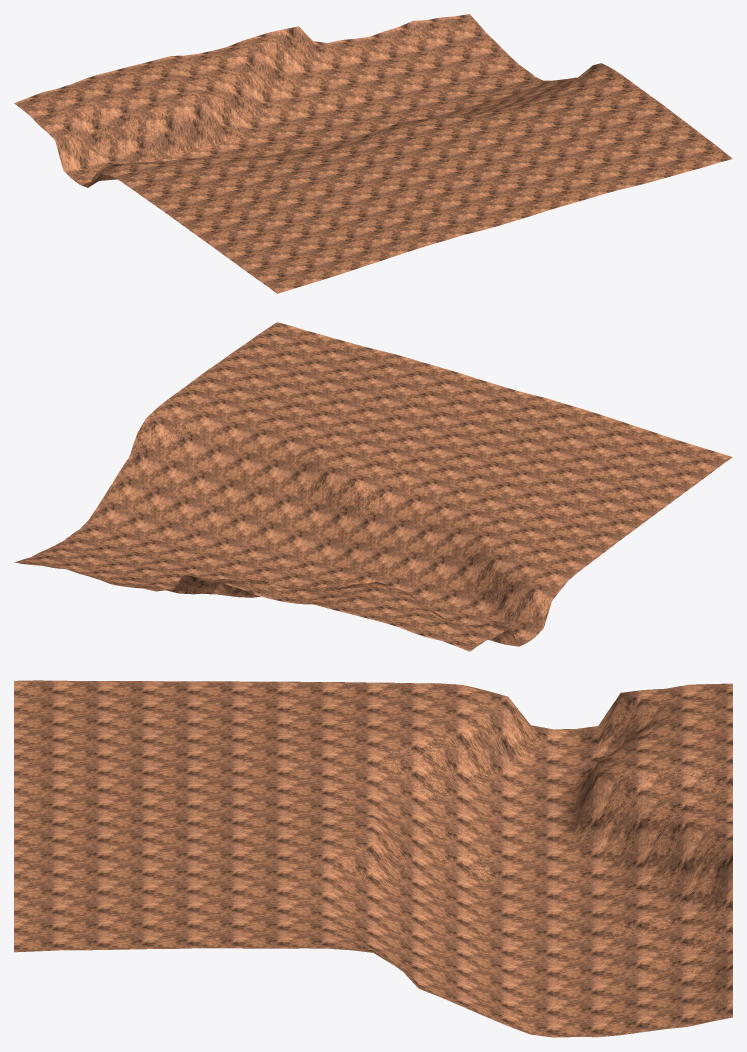
The model's file is terrain_03_10.dae.
3 renders of one model, top to bottom at view 1: azimuth 30°, elevation 25°; view 2: azimuth 150°, elevation 25°; view 3: azimuth 270°, elevation 25°, orthographic. The views are drawn at different scales.
Visible parts, largest first — view 1: terrain_03_10-node; view 2: terrain_03_10-node; view 3: terrain_03_10-node.
Boxes of the visible parts, bbox=[...] form: terrain_03_10-node: bbox=[14, 14, 732, 293]; terrain_03_10-node: bbox=[14, 322, 732, 651]; terrain_03_10-node: bbox=[14, 680, 732, 1037].
Size of the model in its own units: 128 by 128 by 17.53.
1 material, 1 textured.
